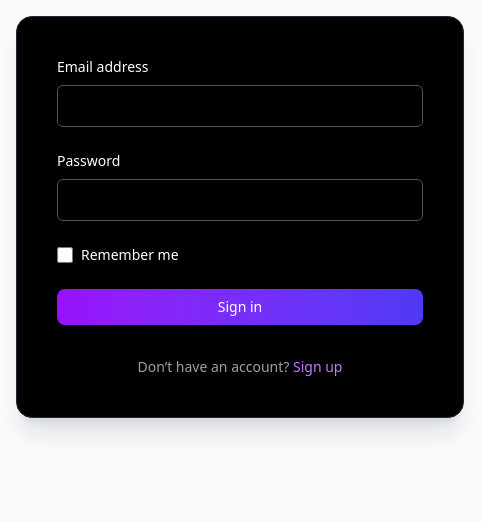
LoginForm - POM style › should reset loading state when error occurs
In the field labelled "Email address": (240, 106) [57,85,423,127], type "test@example.com"
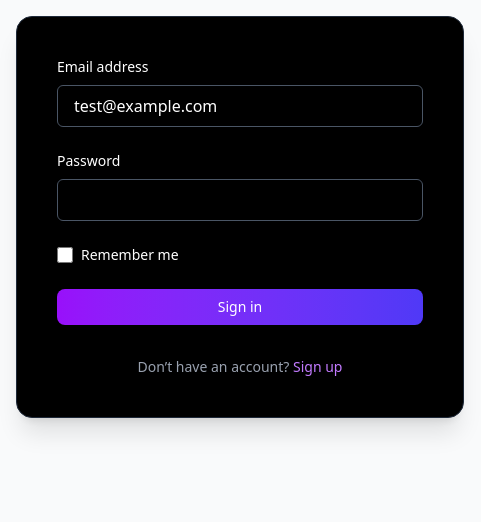
In the password field labelled "Password": (240, 200) [57,179,423,221], type "wrongpassword"
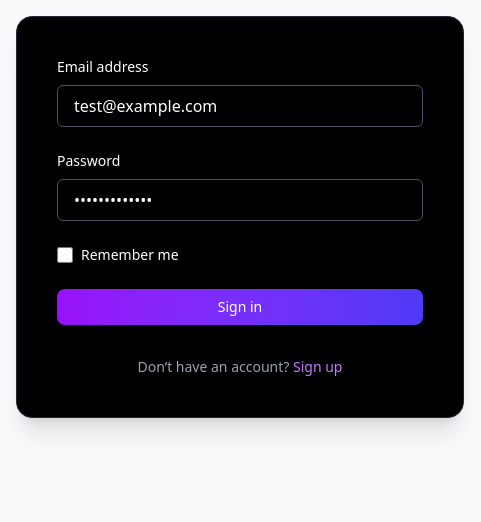
Click the button "Sign in": (240, 307) [57,289,423,325]
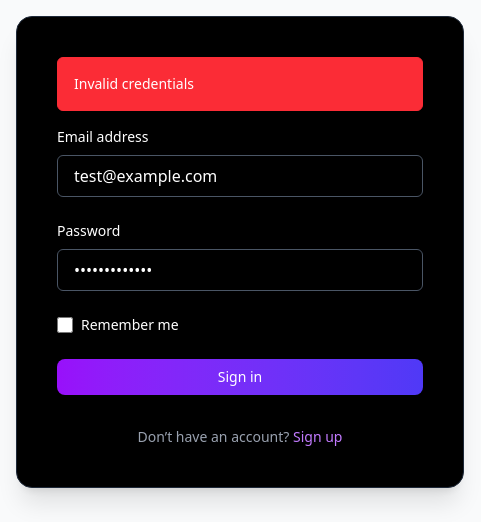
Expected: the button "Sign in" is enabled, [57,359,423,395]
Now the text "Invalid credentials" is shown, box [57,57,423,111]
